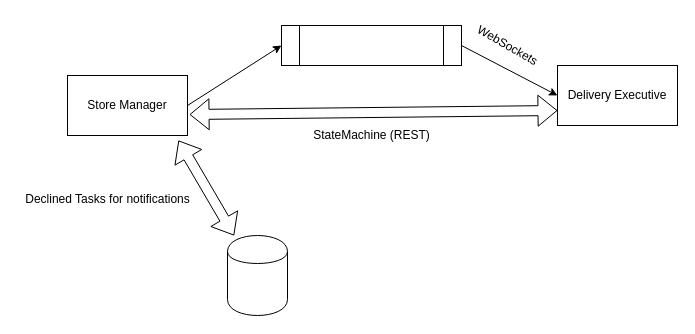
Image size: 695x334. Some labels were removed from this diagram. The box of each missing label's shape, as (x1, y1, x2, y2) in pixels:
Declined Tasks: (226, 234, 288, 316)
Tasks (RabbitMQ): (280, 24, 462, 66)
